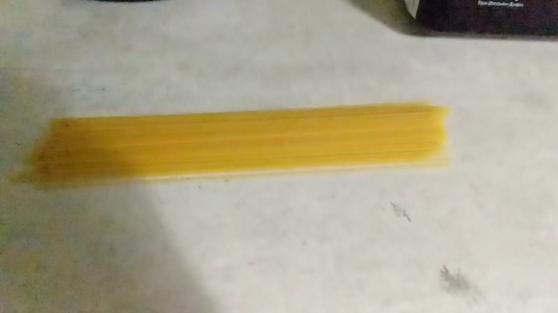spaghetti: (15, 94, 497, 190)
